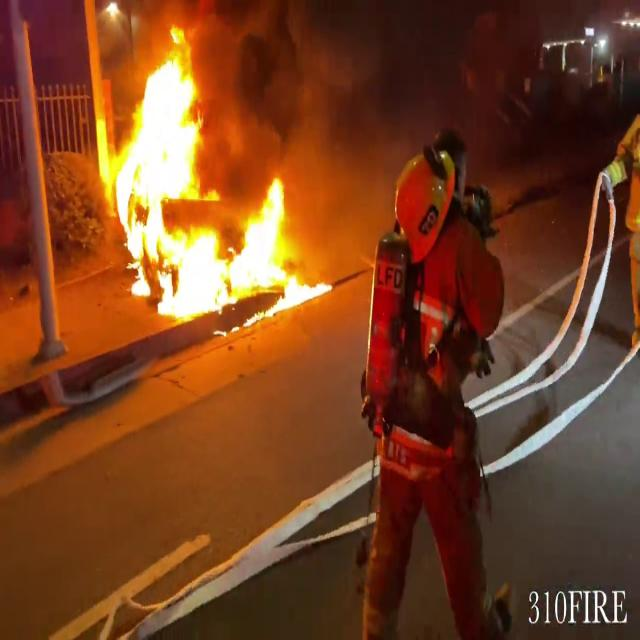Fire: (99, 28, 323, 324)
